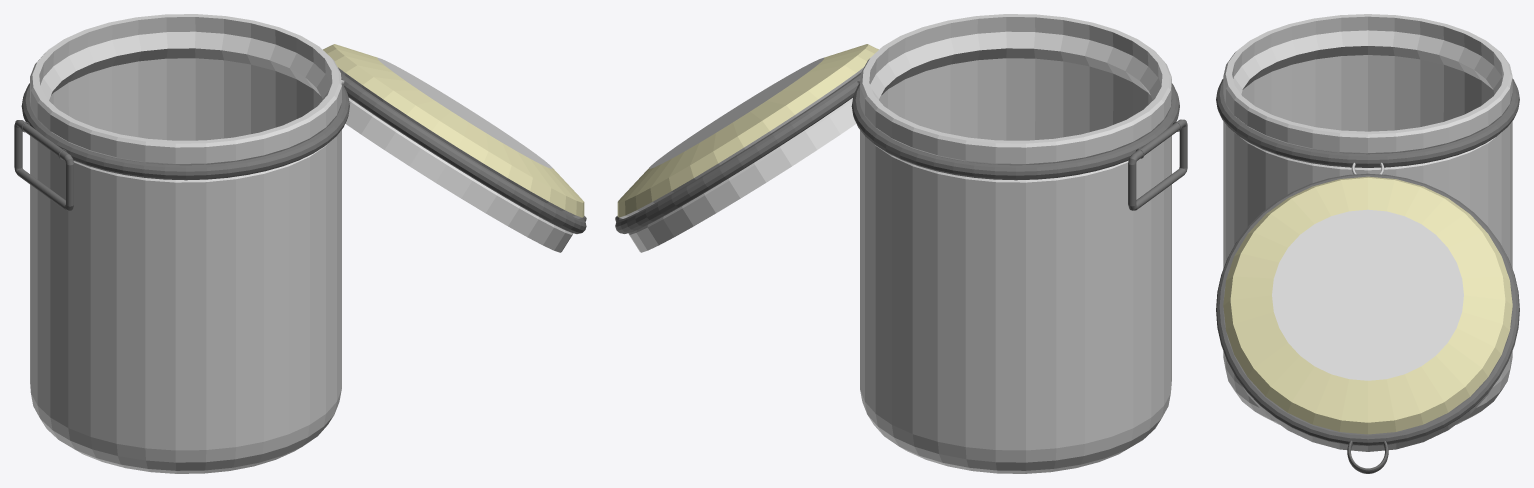
The model's file is JarPrototype.fbx.
3 views of the same model, side by side, from view 1: azimuth 30°, elevation 25°; view 2: azimuth 150°, elevation 25°; view 3: azimuth 270°, elevation 25° (orthographic). The views are drawn at different scales.
Visible parts, largest first — view 1: Jar; view 2: Jar; view 3: Jar.
Part boxes in pixels (x1,y1,x2,y2): Jar: (14,14,586,473); Jar: (615,14,1187,473); Jar: (1216,14,1519,473).
Size of the model in its own units: 402 by 240 by 210.
